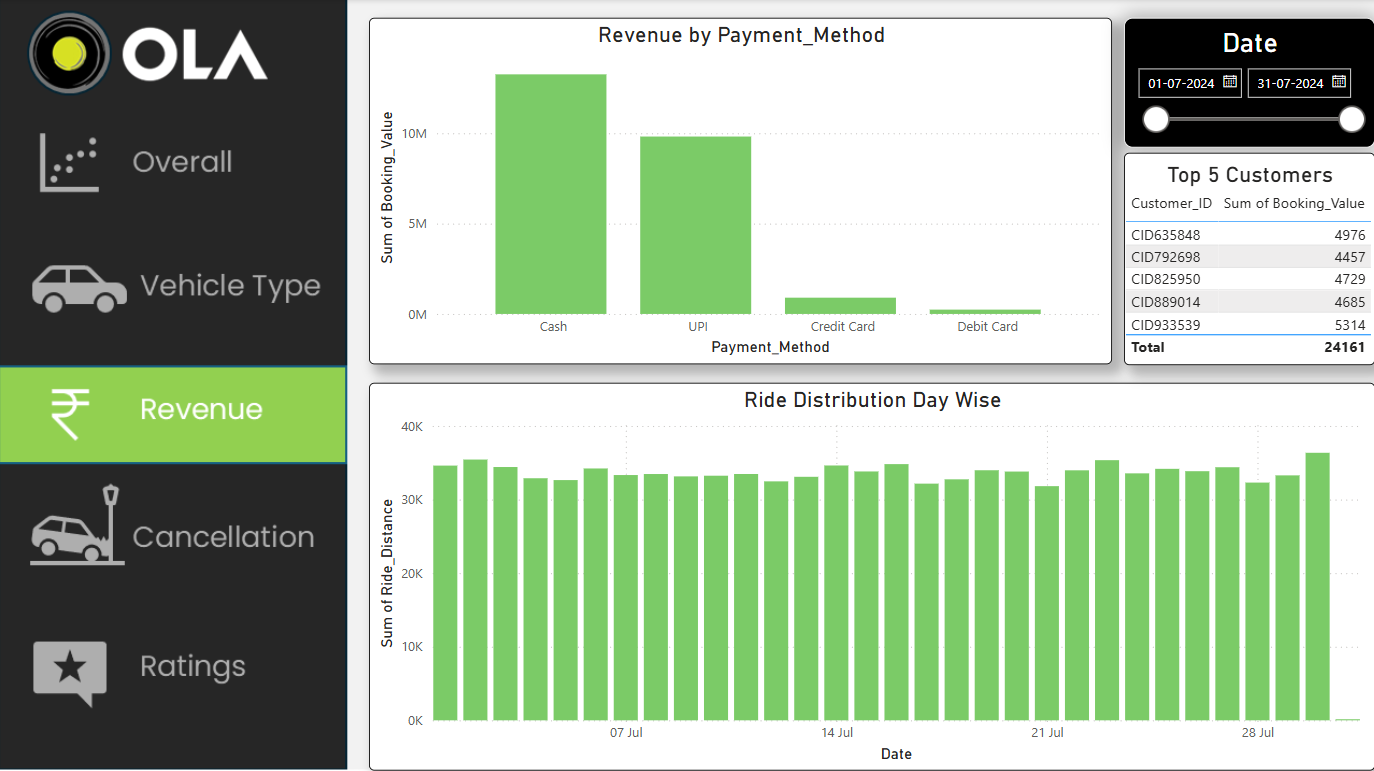

Layout of this report page (visuals, bound fields, positions):
{"tool":"powerbi","page":{"name":"revenue","canvas":[1280,720],"ordinal":2},"visuals":[{"type":"actionButton","box":[0,222,324.5,92.9],"z":0},{"type":"actionButton","box":[0,340.2,324.5,92.9],"z":1000},{"type":"actionButton","box":[0,447.6,324.5,92.9],"z":2000},{"type":"actionButton","box":[0,575.5,324.5,92.9],"z":3000},{"type":"columnChart","title":"Revenue by Payment_Method","fields":{"Y":["Sum(July.Booking_Value)"],"Category":["July.Payment_Method"]},"box":[344.4,17.8,691.6,322.5],"z":4000},{"type":"columnChart","title":"Revenue by Payment_Method","fields":{"Y":["Sum(July.Ride_Distance)"],"Category":["July.Date"]},"box":[344.1,356.8,935.9,360.9],"z":5000},{"type":"slicer","title":"Date","fields":{"Values":["July.Date"]},"box":[1047,17.8,233.3,120.8],"z":6000},{"type":"tableEx","title":"Top 5 Customers","fields":{"Values":["July.Customer_ID","Sum(July.Booking_Value)"]},"box":[1047,142.7,233.3,197.6],"z":7000},{"type":"actionButton","box":[0,107,325.2,91.9],"z":8000}]}

Visuals, with their boxes in screenshot pixels (x1, y1, x2, y2), scaled from the page's 1280x720 canvas onto the 1374x771 screenshot:
actionButton: bbox=(0, 238, 348, 337)
actionButton: bbox=(0, 364, 348, 464)
actionButton: bbox=(0, 479, 348, 579)
actionButton: bbox=(0, 616, 348, 716)
"Revenue by Payment_Method" columnChart: bbox=(370, 19, 1112, 364)
"Revenue by Payment_Method" columnChart: bbox=(369, 382, 1373, 769)
"Date" slicer: bbox=(1124, 19, 1373, 148)
"Top 5 Customers" tableEx: bbox=(1124, 153, 1373, 364)
actionButton: bbox=(0, 115, 349, 213)
